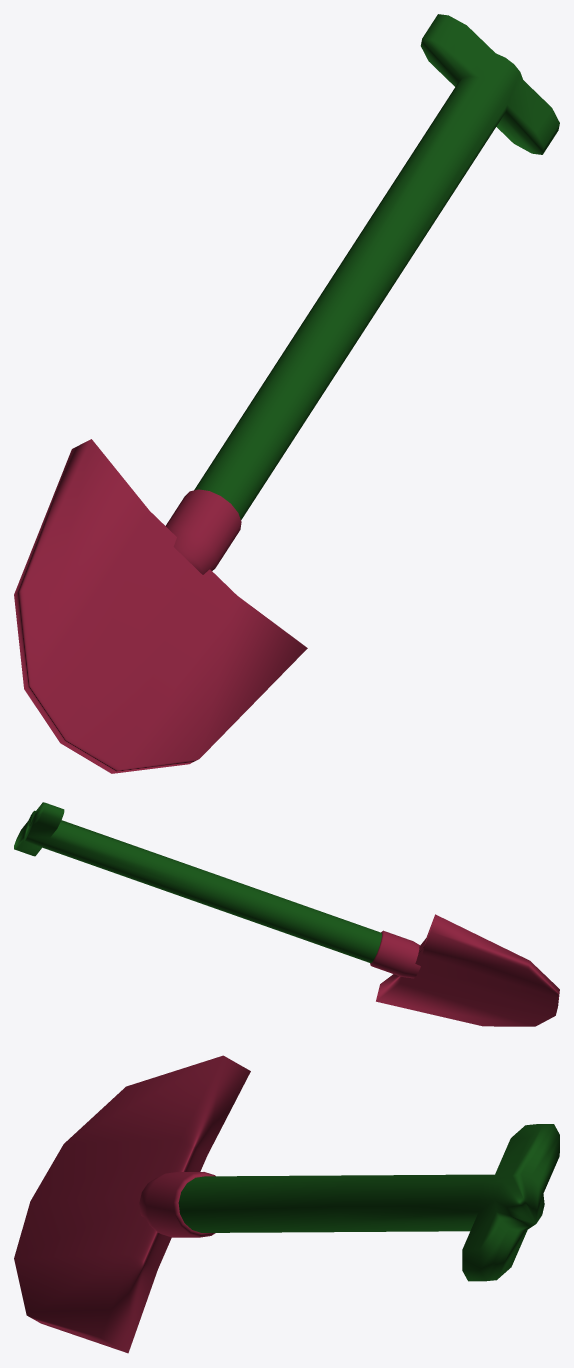
Rendered from rg_shovel_loose.fbx.
3 views of the same model, one above another, from view 1: azimuth 30°, elevation 25°; view 2: azimuth 150°, elevation 25°; view 3: azimuth 270°, elevation 25° (orthographic). The views are drawn at different scales.
Visible parts, largest first — view 1: Shovel_Loose; view 2: Shovel_Loose; view 3: Shovel_Loose.
Boxes of the visible parts, x1,y1,x2,y2 form: Shovel_Loose: (14,14,559,773); Shovel_Loose: (14,802,559,1026); Shovel_Loose: (14,1055,559,1353).
Size of the model in its own units: 1.93 by 1.11 by 1.22.
